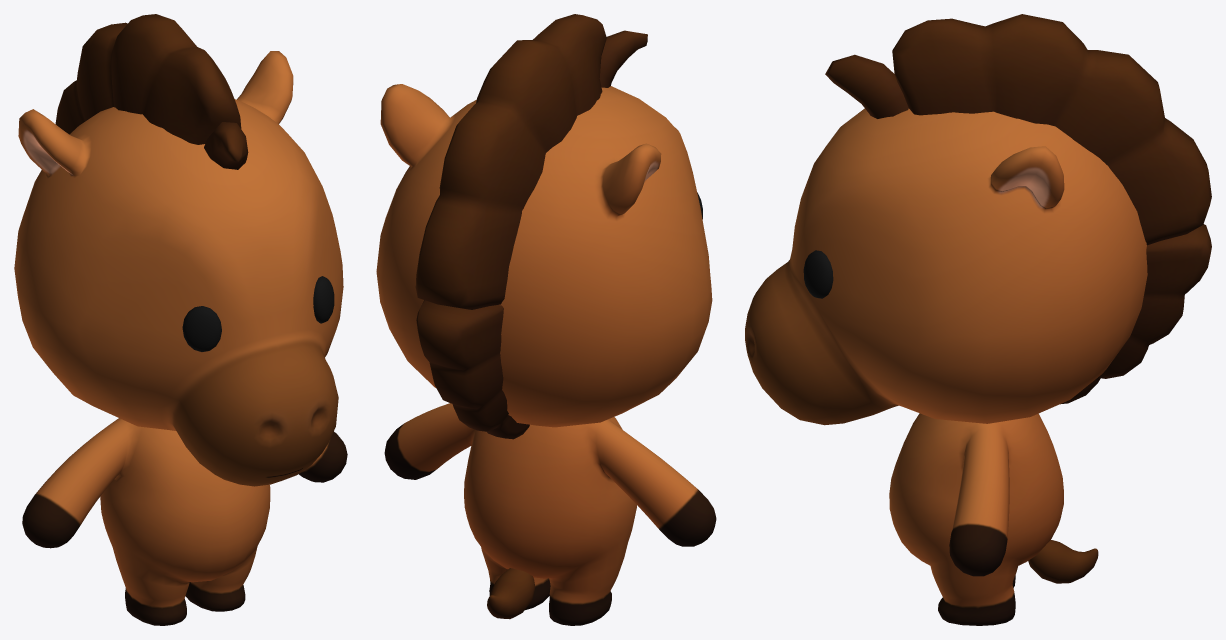
Rendered from Horse.fbx.
3 renders of one model, left to right at view 1: azimuth 30°, elevation 25°; view 2: azimuth 150°, elevation 25°; view 3: azimuth 270°, elevation 25°, orthographic. The views are drawn at different scales.
Visible parts, largest first — view 1: HorseBody; view 2: HorseBody; view 3: HorseBody.
Boxes of the visible parts, x1,y1,x2,y2 form: HorseBody: (14, 14, 347, 625); HorseBody: (376, 14, 716, 625); HorseBody: (745, 14, 1211, 625).
Bounding box in the file's own units: 185 × 315 × 229.
